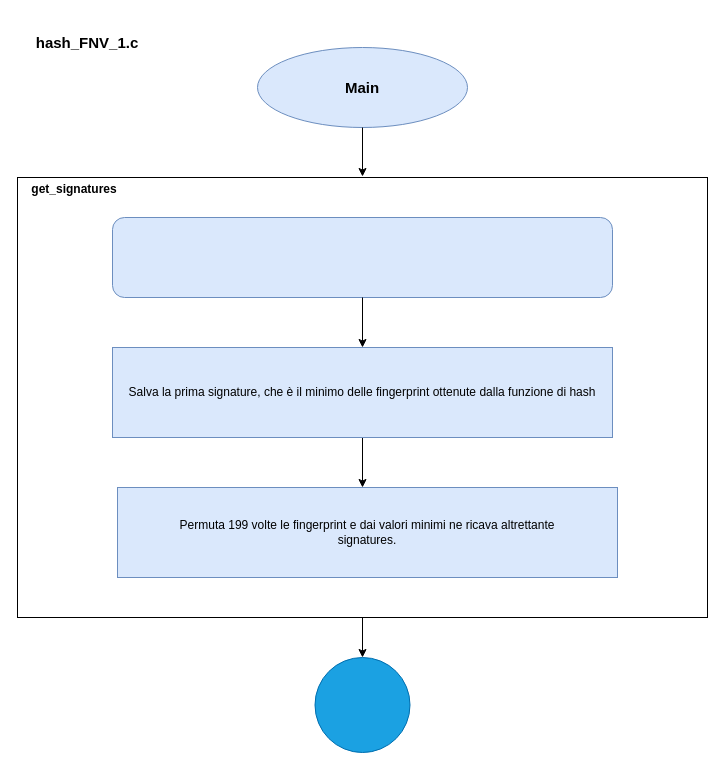
Image size: 725x770. Some labels were removed from this diagram. The shapes that lost their labels are listed below. From the top down, each one's centre as x and y in pixels, then its label:
At point (362, 257): "int hash_FNV_1a (char *shingle, long long unsigned *hash)".
At point (362, 704): "signatures".
